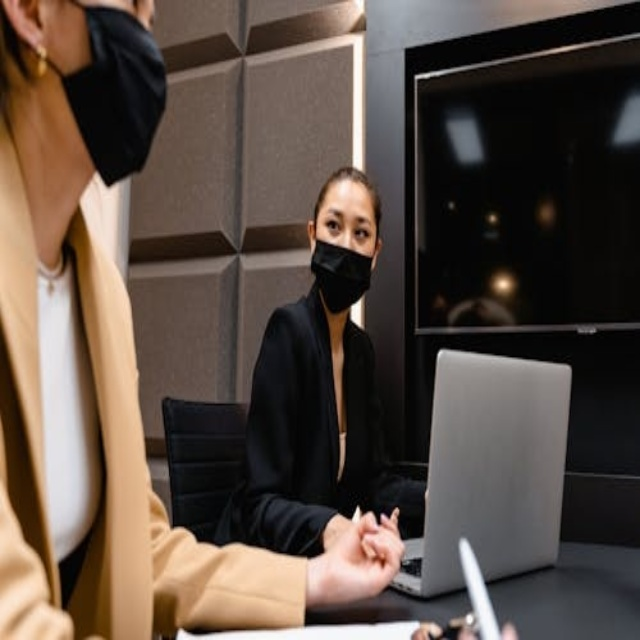Mascara: (58, 5, 169, 187), (310, 236, 375, 312)
Sin_gafas: (319, 206, 374, 244)
Sin_guantes: (311, 504, 407, 612), (414, 615, 518, 640)
